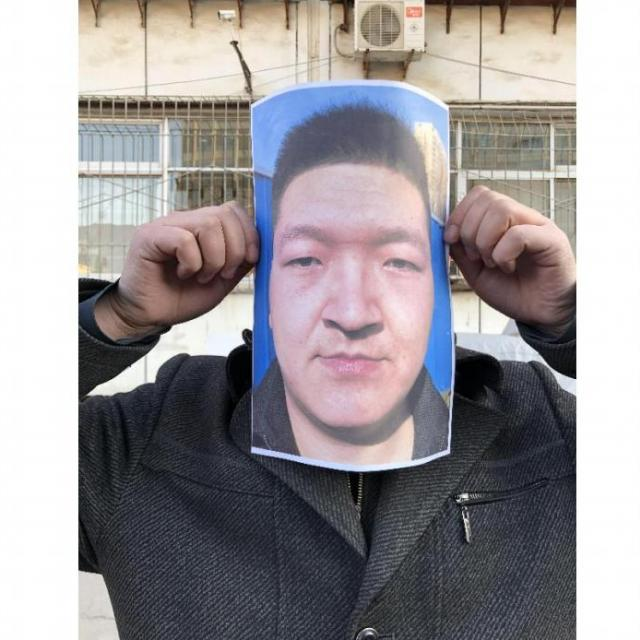photo: (243, 79, 470, 468)
